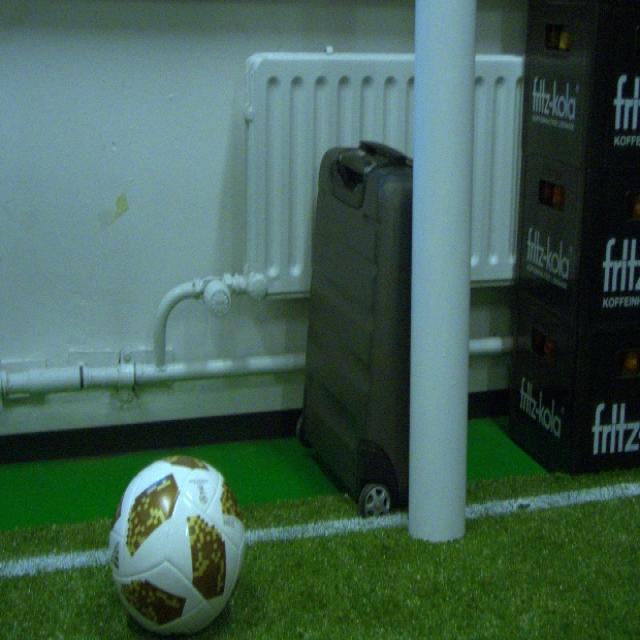ball: (106, 452, 247, 639)
goalpost: (410, 0, 476, 547)
